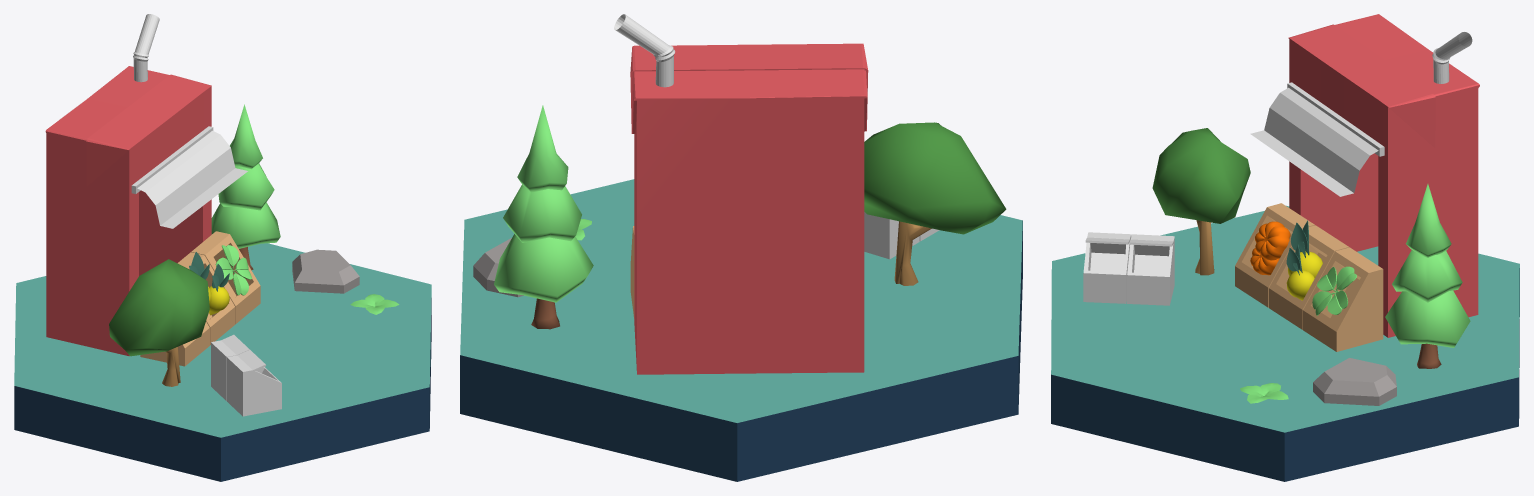
Rendered from Macro - Market lv2 wm1.fbx.
3 views of the same model, side by side, from view 1: azimuth 30°, elevation 25°; view 2: azimuth 150°, elevation 25°; view 3: azimuth 270°, elevation 25° (orthographic). The views are drawn at different scales.
Parts seen in each view (by area): view 1: Cylinder.154, Juicebox Open, tree1 v:88 f:56, Plane.095, Tree_Spruce_tiny_01.003, Cube.001, Rock Type4 04 mesh.002, Cube.142, Cube.002, Cube.141, Cylinder, Cube.140 (+3 smaller); view 2: Cylinder.154, Juicebox Open, tree1 v:88 f:56, Tree_Spruce_tiny_01.003, Cylinder, Cube.002, Rock Type4 04 mesh.002; view 3: Cylinder.154, Juicebox Open, Tree_Spruce_tiny_01.003, tree1 v:88 f:56, Plane.095, Cube.142, Cube.002, Rock Type4 04 mesh.002, Cube.001, Cube.140, Cube.141, Sphere.053 (+4 smaller).
Boxes of the visible parts, x1,y1,x2,y2 form: Cylinder.154: (14,243,431,481); Juicebox Open: (45,66,211,356); tree1 v:88 f:56: (109,259,209,386); Plane.095: (137,130,247,228); Tree_Spruce_tiny_01.003: (211,104,280,270); Cube.001: (227,350,281,416); Rock Type4 04 mesh.002: (292,249,359,293); Cube.142: (191,231,260,324); Cube.002: (211,334,265,401); Cube.141: (177,252,235,345); Cylinder: (133,14,159,82); Cube.140: (140,322,209,366); Cylinder.154: (460,179,1022,481); Juicebox Open: (630,43,868,374); tree1 v:88 f:56: (864,122,1006,285); Tree_Spruce_tiny_01.003: (494,105,593,329); Cylinder: (614,14,675,87); Cube.002: (864,212,919,259); Rock Type4 04 mesh.002: (473,238,523,297); Cylinder.154: (1051,205,1519,481); Juicebox Open: (1288,14,1479,337); Tree_Spruce_tiny_01.003: (1385,184,1470,368); tree1 v:88 f:56: (1152,128,1250,275); Plane.095: (1250,87,1378,196); Cube.142: (1303,247,1383,351); Cube.002: (1127,234,1174,305); Rock Type4 04 mesh.002: (1313,358,1396,405); Cube.001: (1083,232,1131,303); Cube.140: (1235,203,1314,307); Cube.141: (1269,225,1349,329); Sphere.053: (1255,221,1290,260).
Size of the model in its own units: 197 by 138 by 172.
